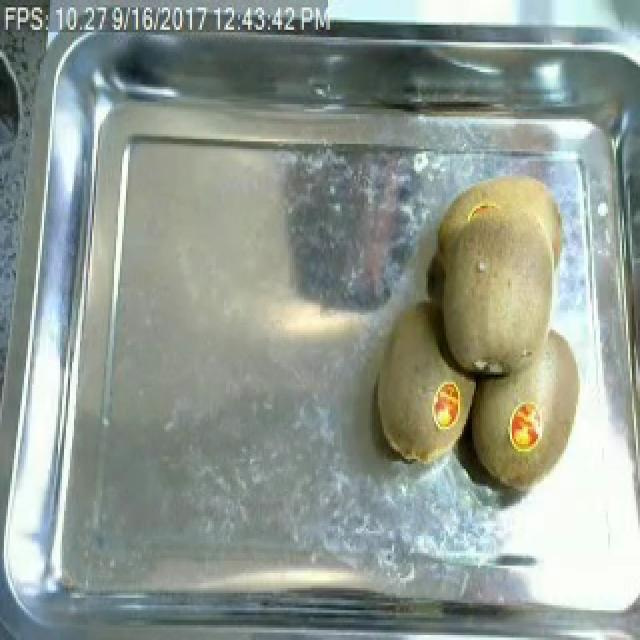Fruit: (420, 162, 584, 390), (364, 295, 478, 474)
